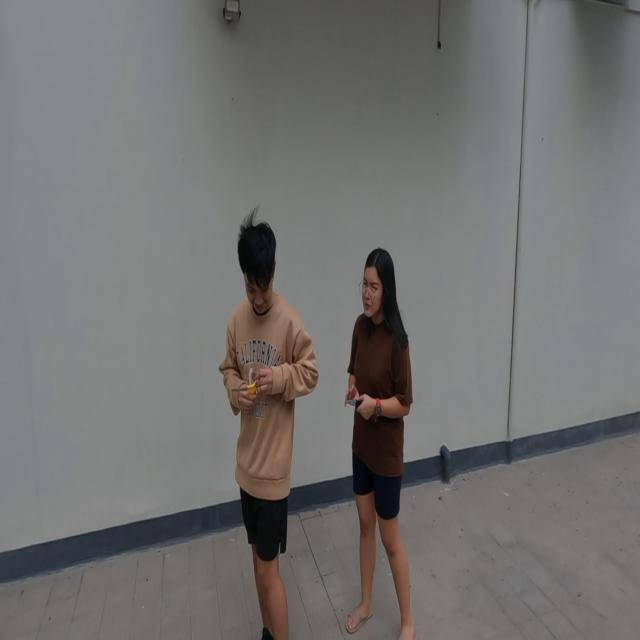scissor: (231, 378, 260, 399), (346, 398, 363, 408)
